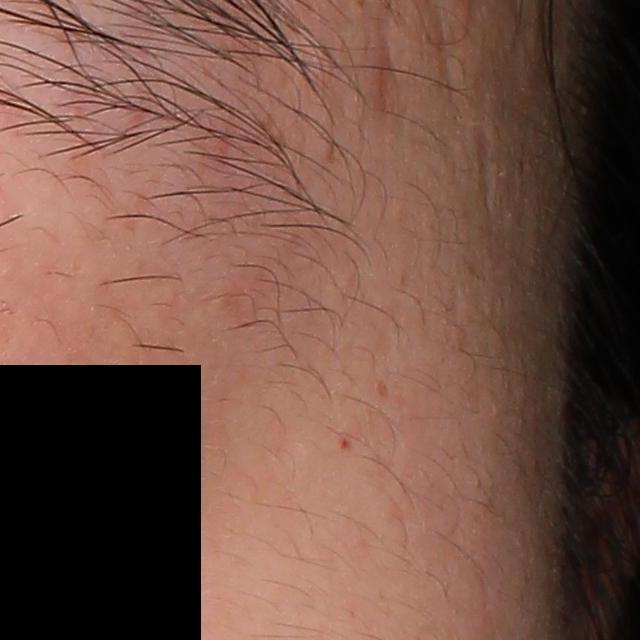atrophic_scar: (478, 114, 503, 218)
